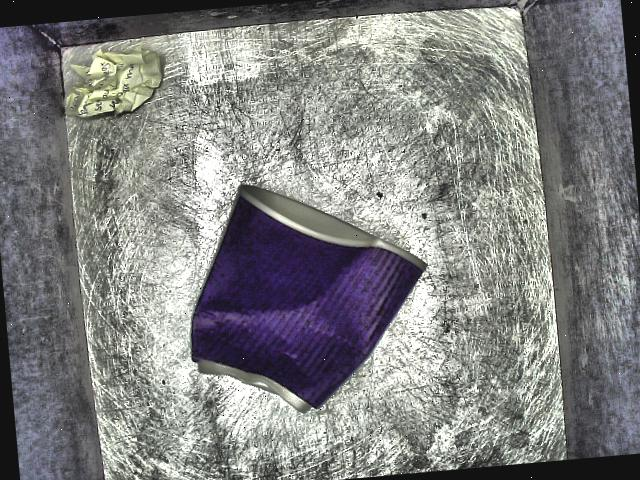Paper: (162, 164, 442, 422), (41, 25, 170, 127)
